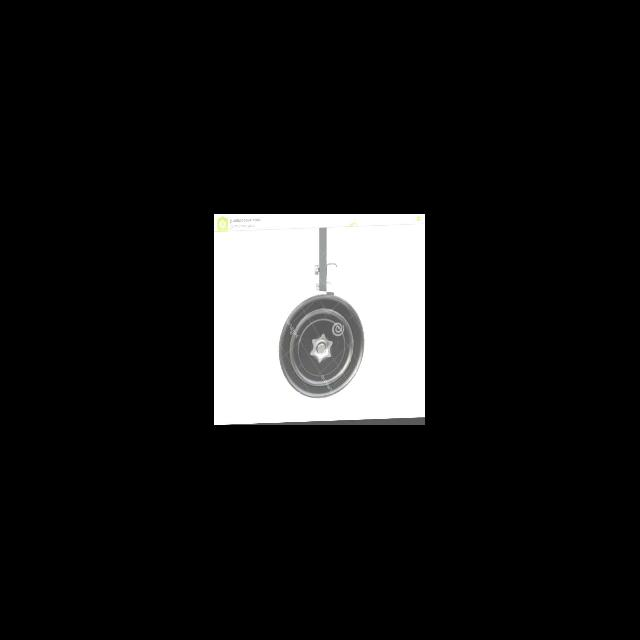barbell: (270, 288, 371, 407)
